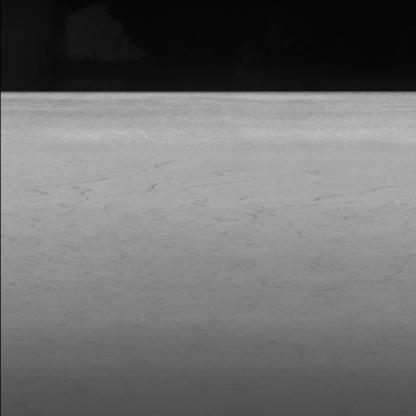silk_spot: (0, 157, 389, 279)
